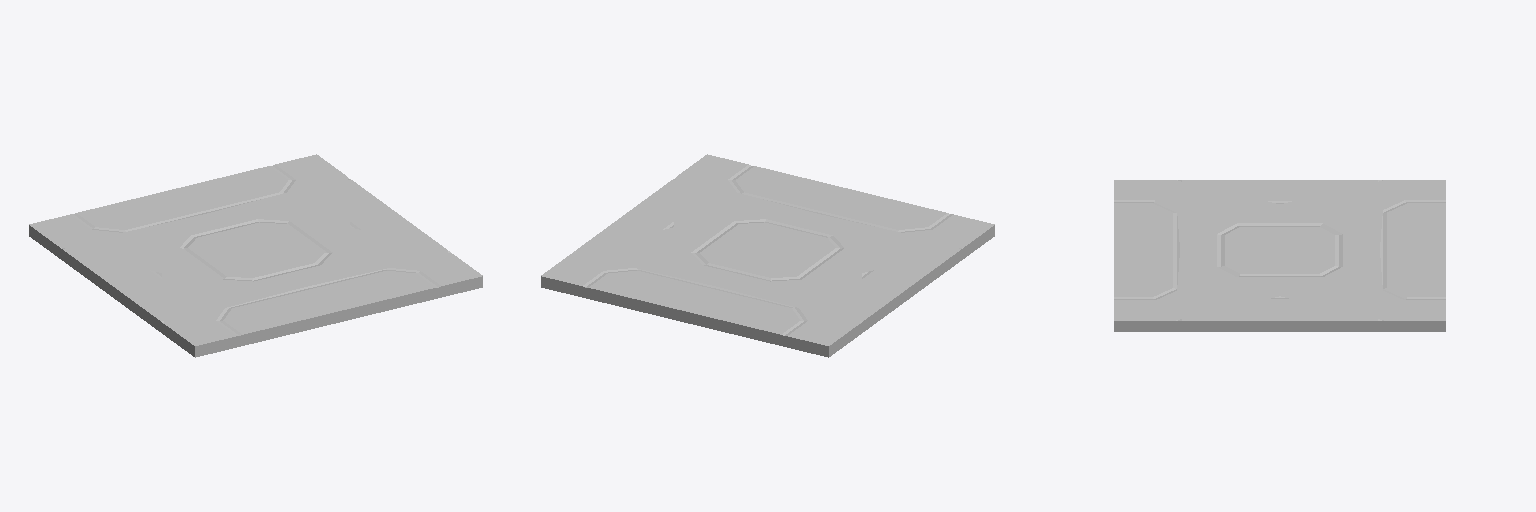
Rendered from Floor_Tile_Carpet_Grey.obj.
The picture shows the model from 3 angles: view 1: azimuth 30°, elevation 25°; view 2: azimuth 150°, elevation 25°; view 3: azimuth 270°, elevation 25°; orthographic projection.
Parts seen in each view (by area): view 1: Floor_Tile_Carpet_Grey; view 2: Floor_Tile_Carpet_Grey; view 3: Floor_Tile_Carpet_Grey.
Part boxes in pixels (x1,y1,x2,y2): Floor_Tile_Carpet_Grey: (29,154,482,357); Floor_Tile_Carpet_Grey: (541,154,994,357); Floor_Tile_Carpet_Grey: (1114,180,1445,331).
Size of the model in its own units: 4 by 0.15 by 4.